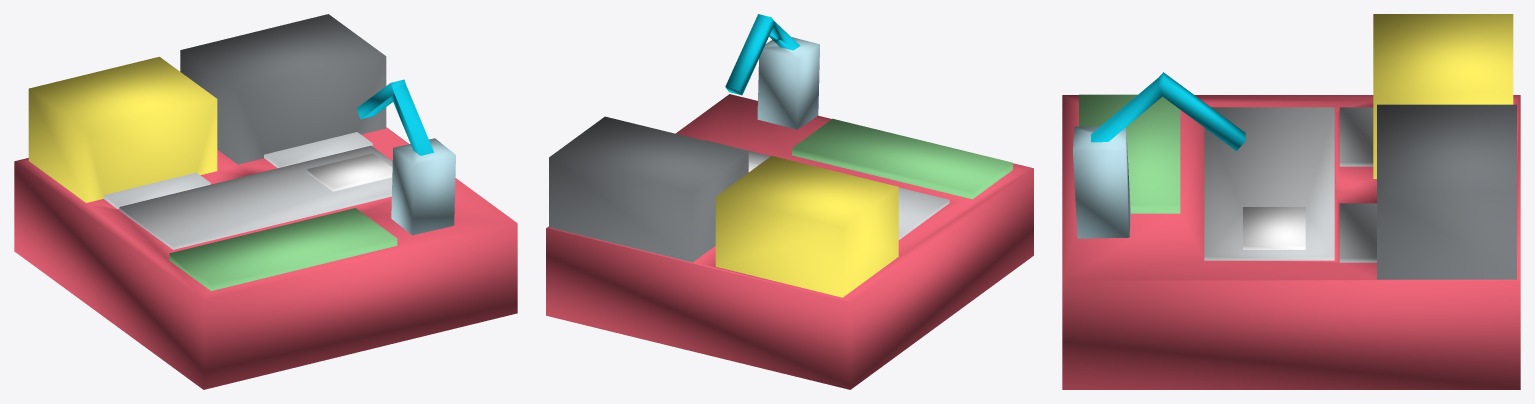
The model's file is prototipo1.glb.
3 views of the same model, side by side, from view 1: azimuth 30°, elevation 25°; view 2: azimuth 150°, elevation 25°; view 3: azimuth 270°, elevation 25° (orthographic). The views are drawn at different scales.
Parts seen in each view (by area): view 1: obj_0; view 2: obj_0; view 3: obj_0.
Part boxes in pixels (x1,y1,x2,y2): obj_0: [14, 14, 517, 389]; obj_0: [546, 14, 1033, 389]; obj_0: [1062, 14, 1520, 389].
Bounding box in the file's own units: 91 × 61.15 × 95.
